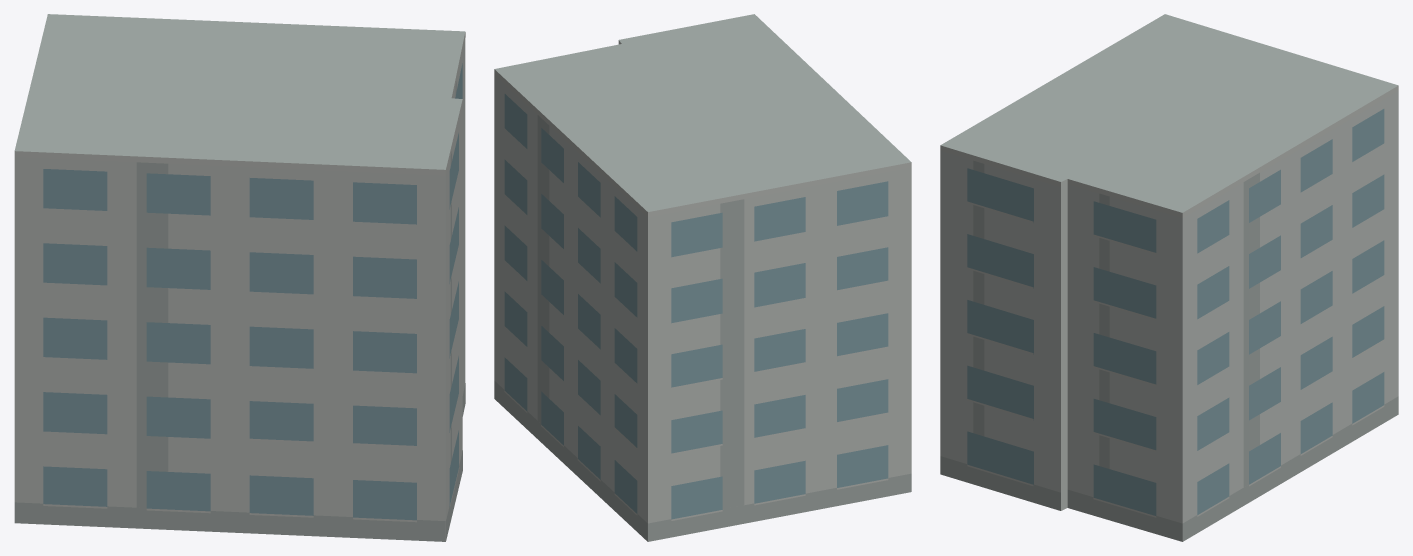
File: survey-upis-33017223.glb
The picture shows the model from 3 angles, left to right: view 1: azimuth 30°, elevation 25°; view 2: azimuth 150°, elevation 25°; view 3: azimuth 270°, elevation 25°; orthographic projection. The views are drawn at different scales.
Visible parts, largest first — view 1: survey-upis-33017223.tmp; view 2: survey-upis-33017223.tmp; view 3: survey-upis-33017223.tmp.
Part boxes in pixels (bbox=[...]): survey-upis-33017223.tmp: bbox=[14, 14, 465, 541]; survey-upis-33017223.tmp: bbox=[494, 14, 911, 541]; survey-upis-33017223.tmp: bbox=[940, 14, 1398, 541].
Bounding box in the file's own units: 19.97 × 15.4 × 19.45.
